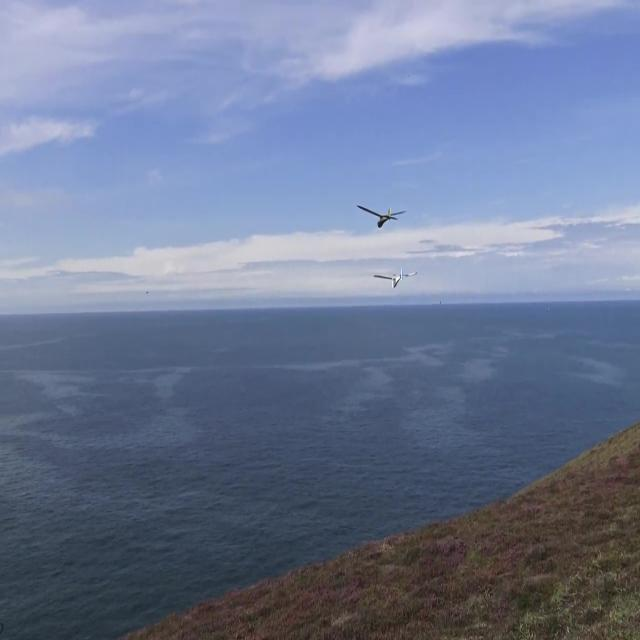iha: (357, 202, 408, 230), (367, 266, 412, 290)
